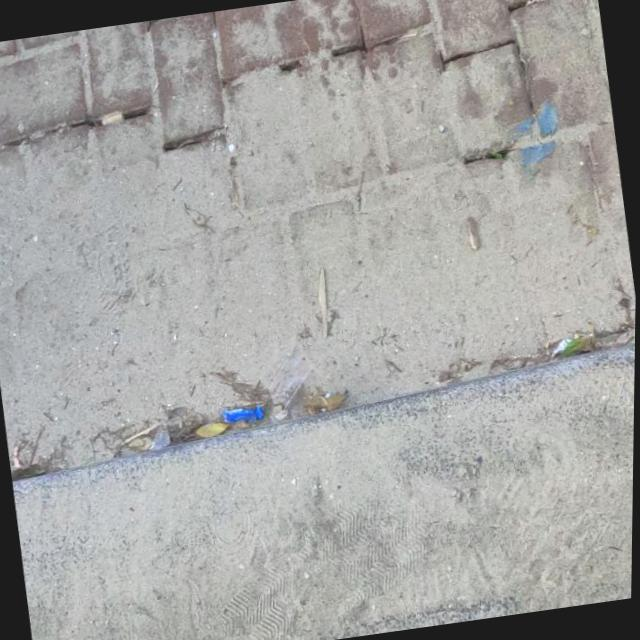Plastic: (222, 402, 268, 428)
